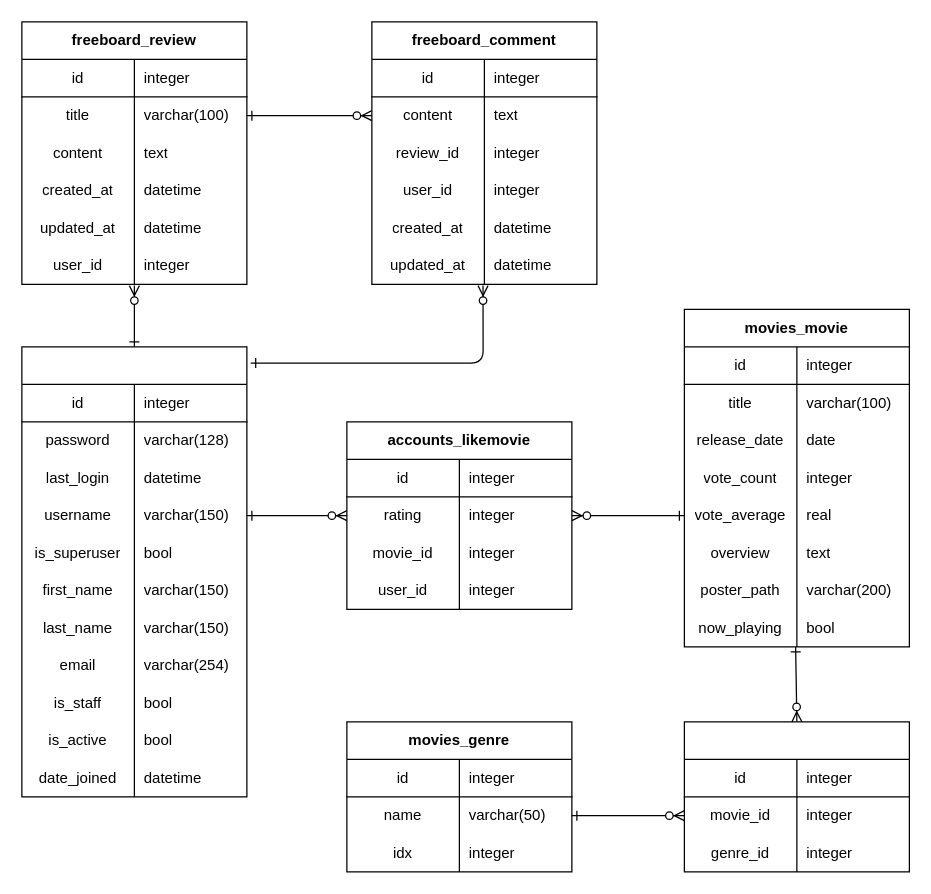
This 931x894 diagram has some shape labels left out. Here are the shapes that lost their labels. From the top down, the box of each, then its label:
(21, 346, 247, 797): accounts_user
(683, 721, 909, 872): movies_movie_genres
